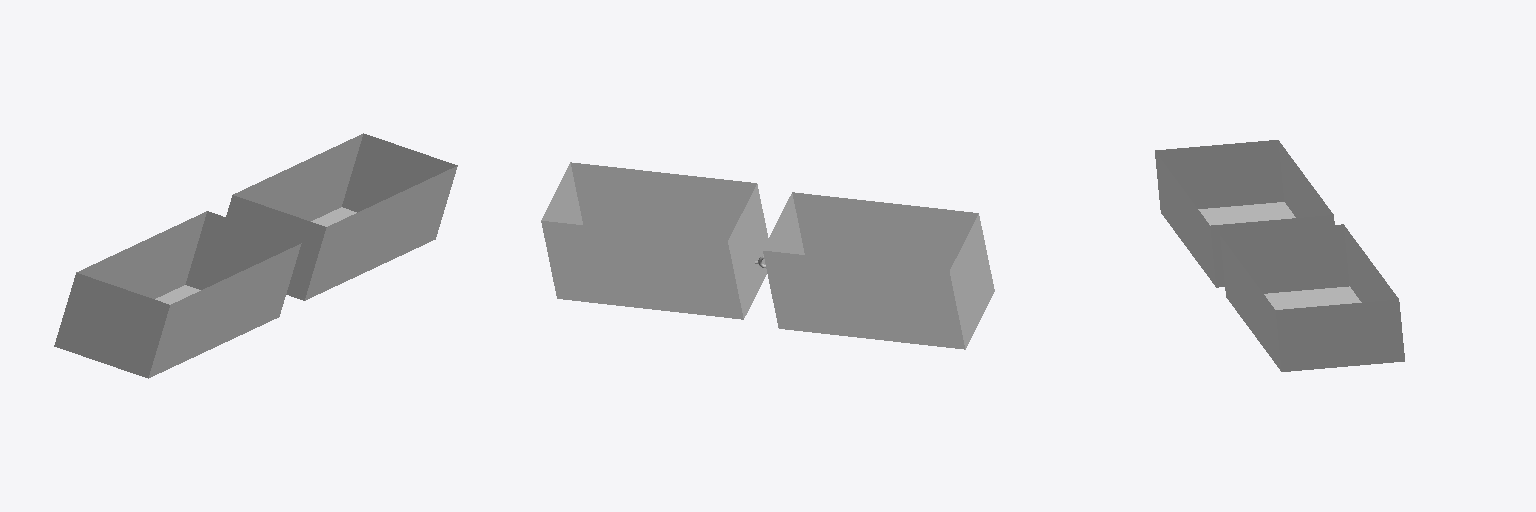
File: vagon.obj
The picture shows the model from 3 angles: view 1: azimuth 30°, elevation 25°; view 2: azimuth 150°, elevation 25°; view 3: azimuth 270°, elevation 25°; orthographic projection.
Parts seen in each view (by area): view 1: Cube, Cube.002; view 2: Cube, Cube.002; view 3: Cube.002, Cube.
Boxes of the visible parts, <box> form: Cube: <box>54,211,301,378</box>; Cube.002: <box>226,133,457,300</box>; Cube: <box>763,192,994,349</box>; Cube.002: <box>541,162,768,319</box>; Cube.002: <box>1220,224,1404,371</box>; Cube: <box>1155,140,1334,287</box>.
Bounding box in the file's own units: 7.13 × 1.48 × 3.88.